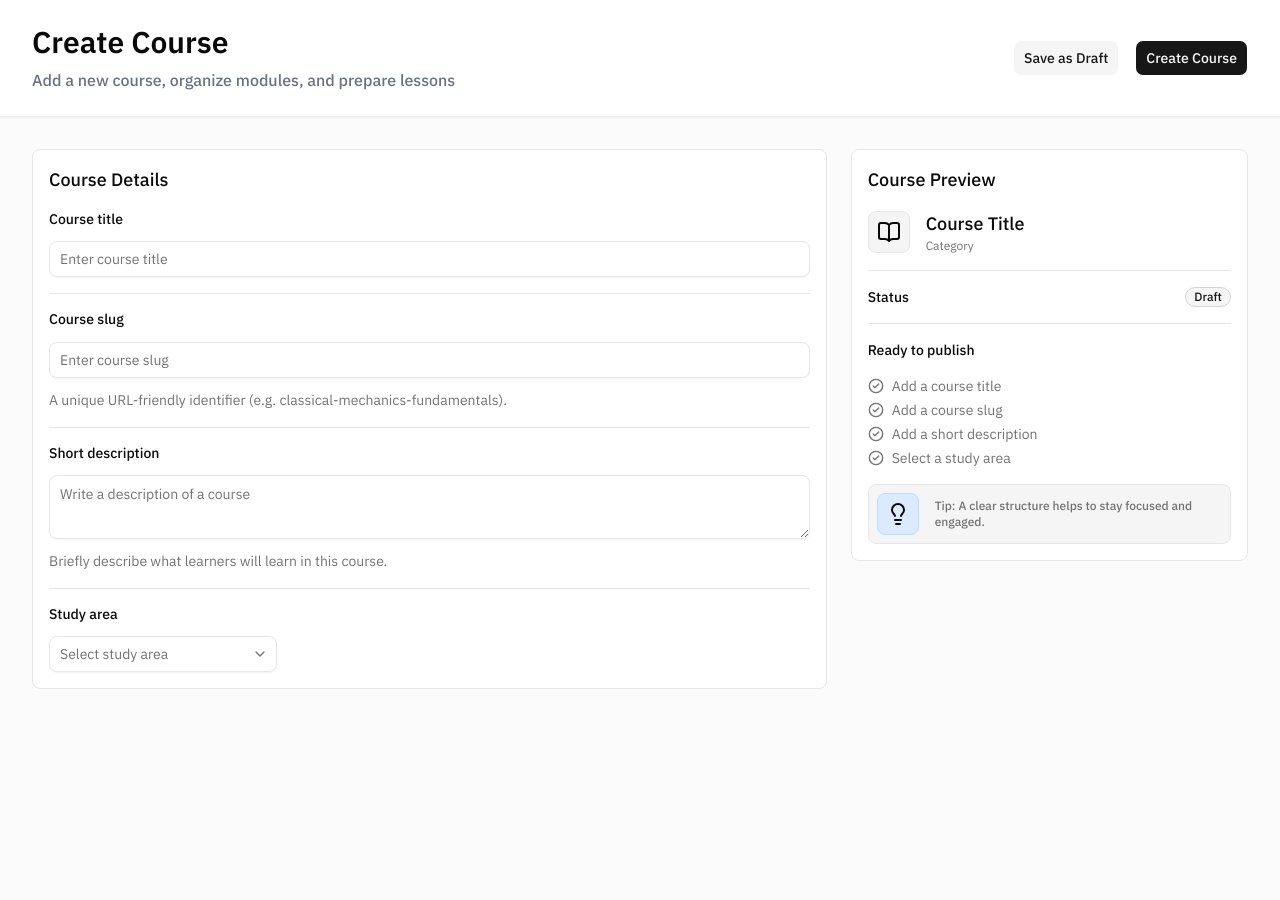
Test: CourseFormPage: Create › shows backend error message and stays on the page when the server returns 400
In the field labelled "Course title": (429, 259) [49, 241, 810, 277], type "Duplicate Course"
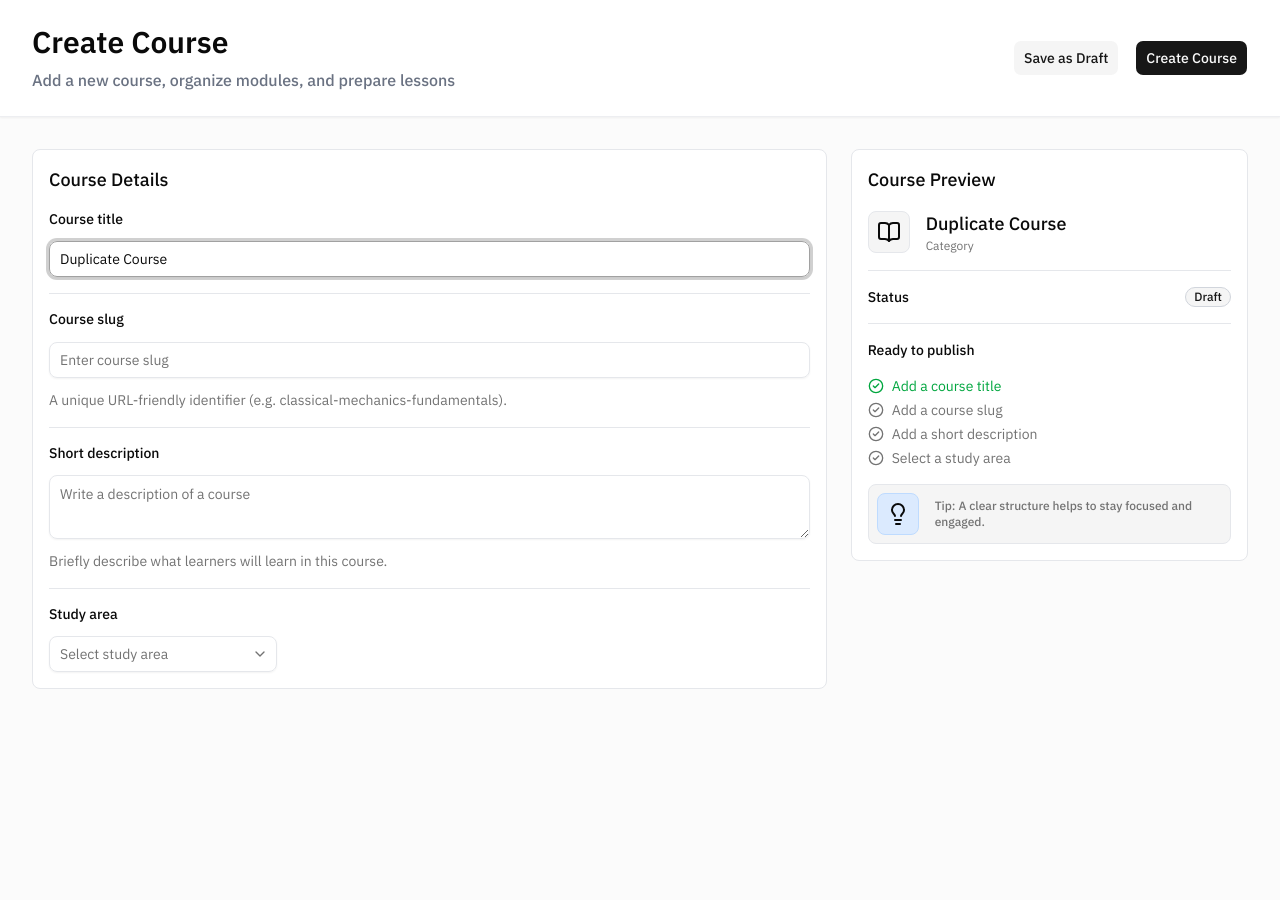
In the field labelled "Course slug": (429, 360) [49, 342, 810, 378], type "existing-slug"
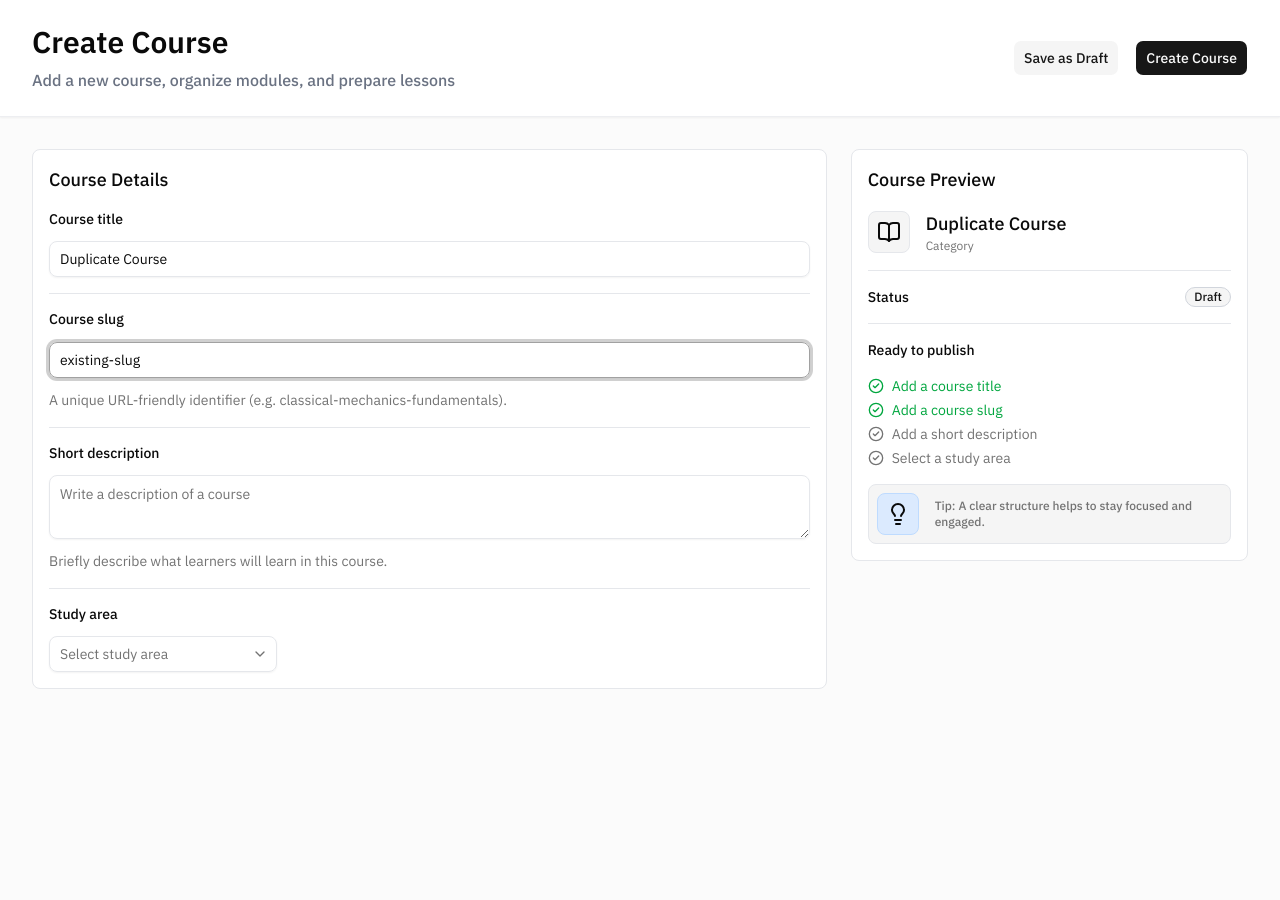
In the text box labelled "Short description": (429, 507) [49, 475, 810, 539], type "A course"
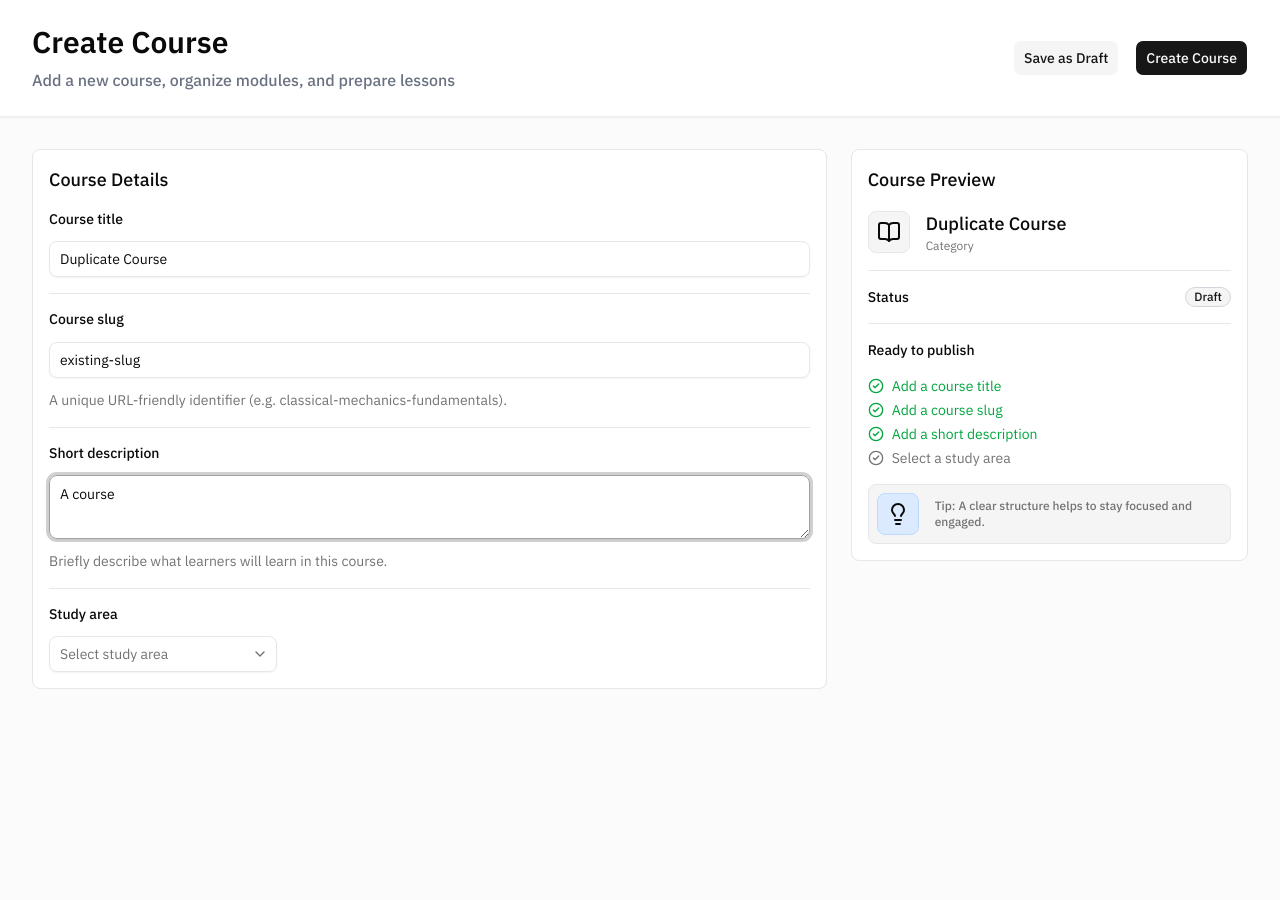
Click the dropdown labelled "study area": (163, 654) [49, 636, 277, 672]
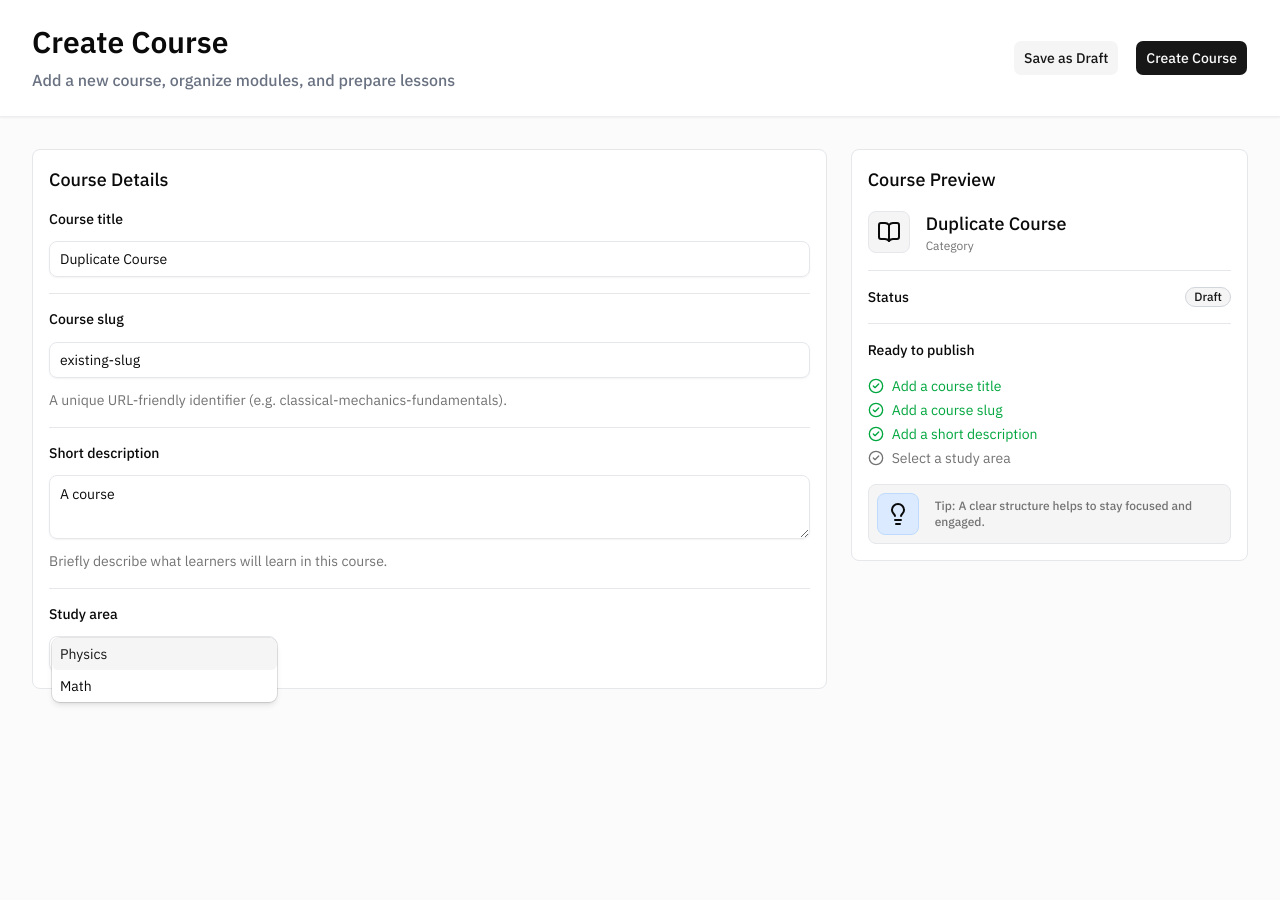
Click the option "Physics": (165, 654) [52, 638, 277, 670]
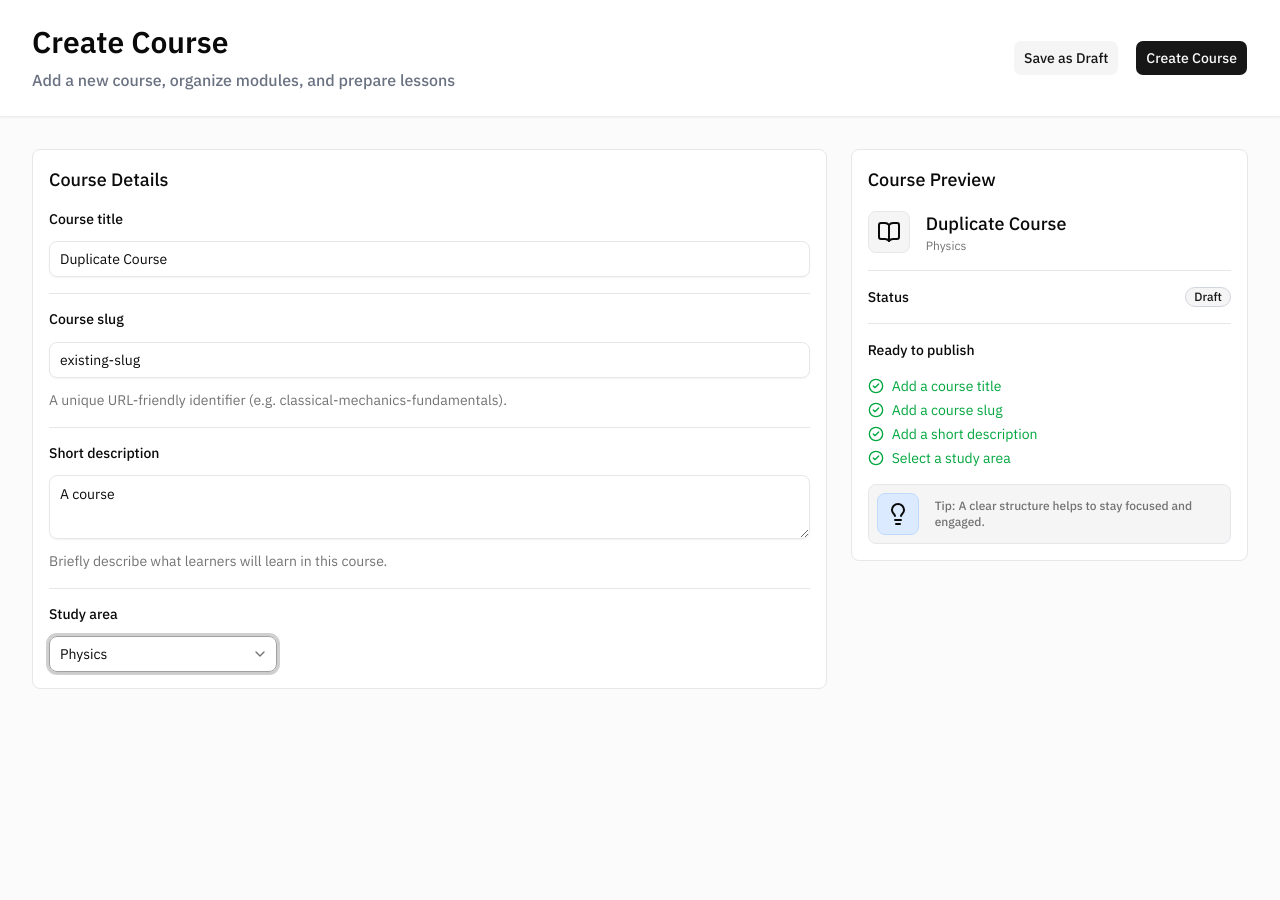
Click the button "Create Course": (1192, 58) [1135, 40, 1248, 76]
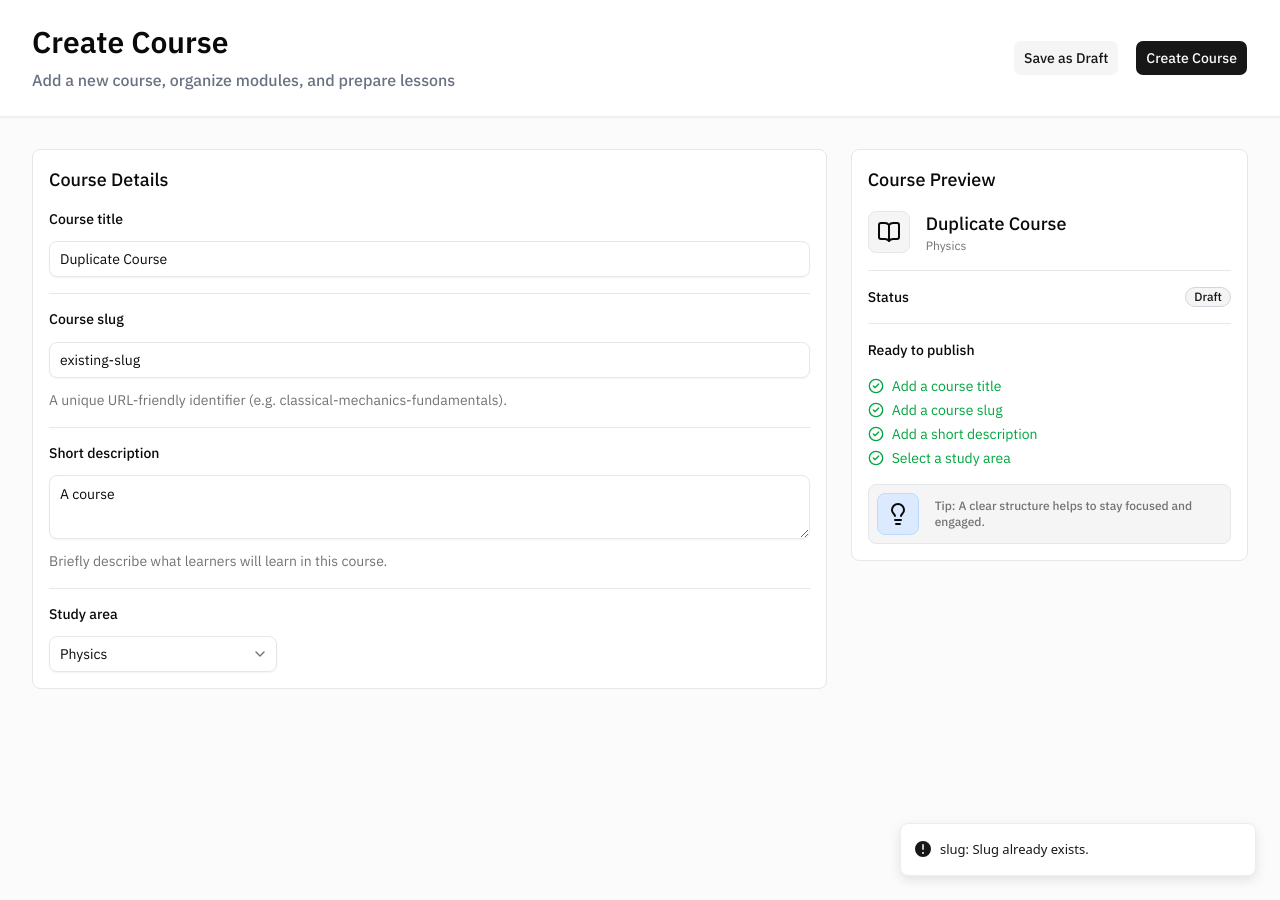
Expected: the text "slug: Slug already exists." is shown, [940, 840, 1089, 859]
